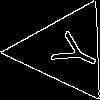Y: (40, 26, 100, 77)
